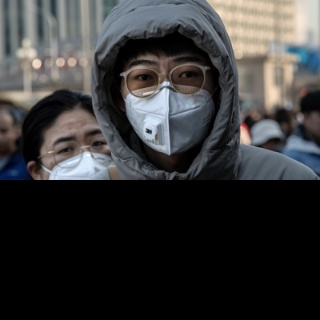with_mask: (120, 53, 216, 158), (39, 125, 115, 180)
